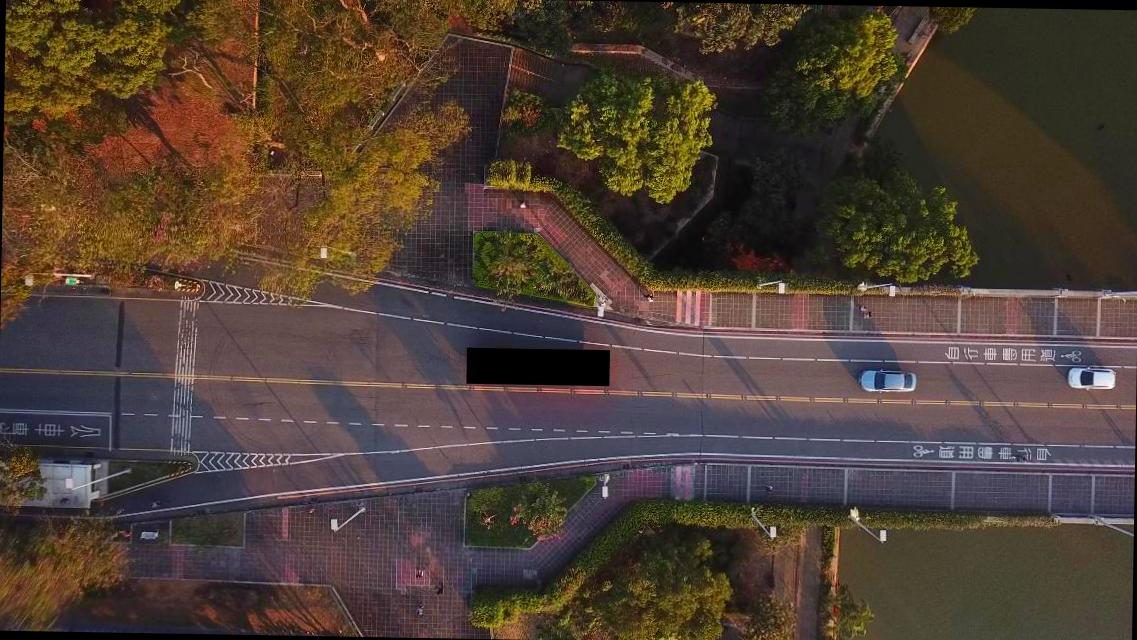vehicle: (858, 367, 916, 393), (1067, 366, 1115, 390)
